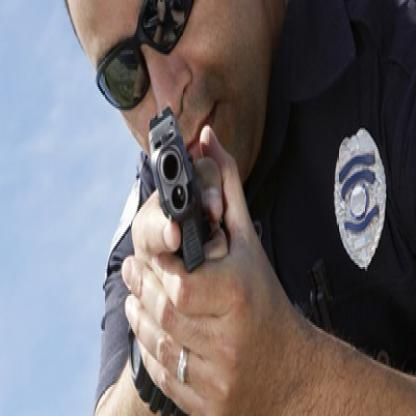gun: (145, 101, 213, 272)
